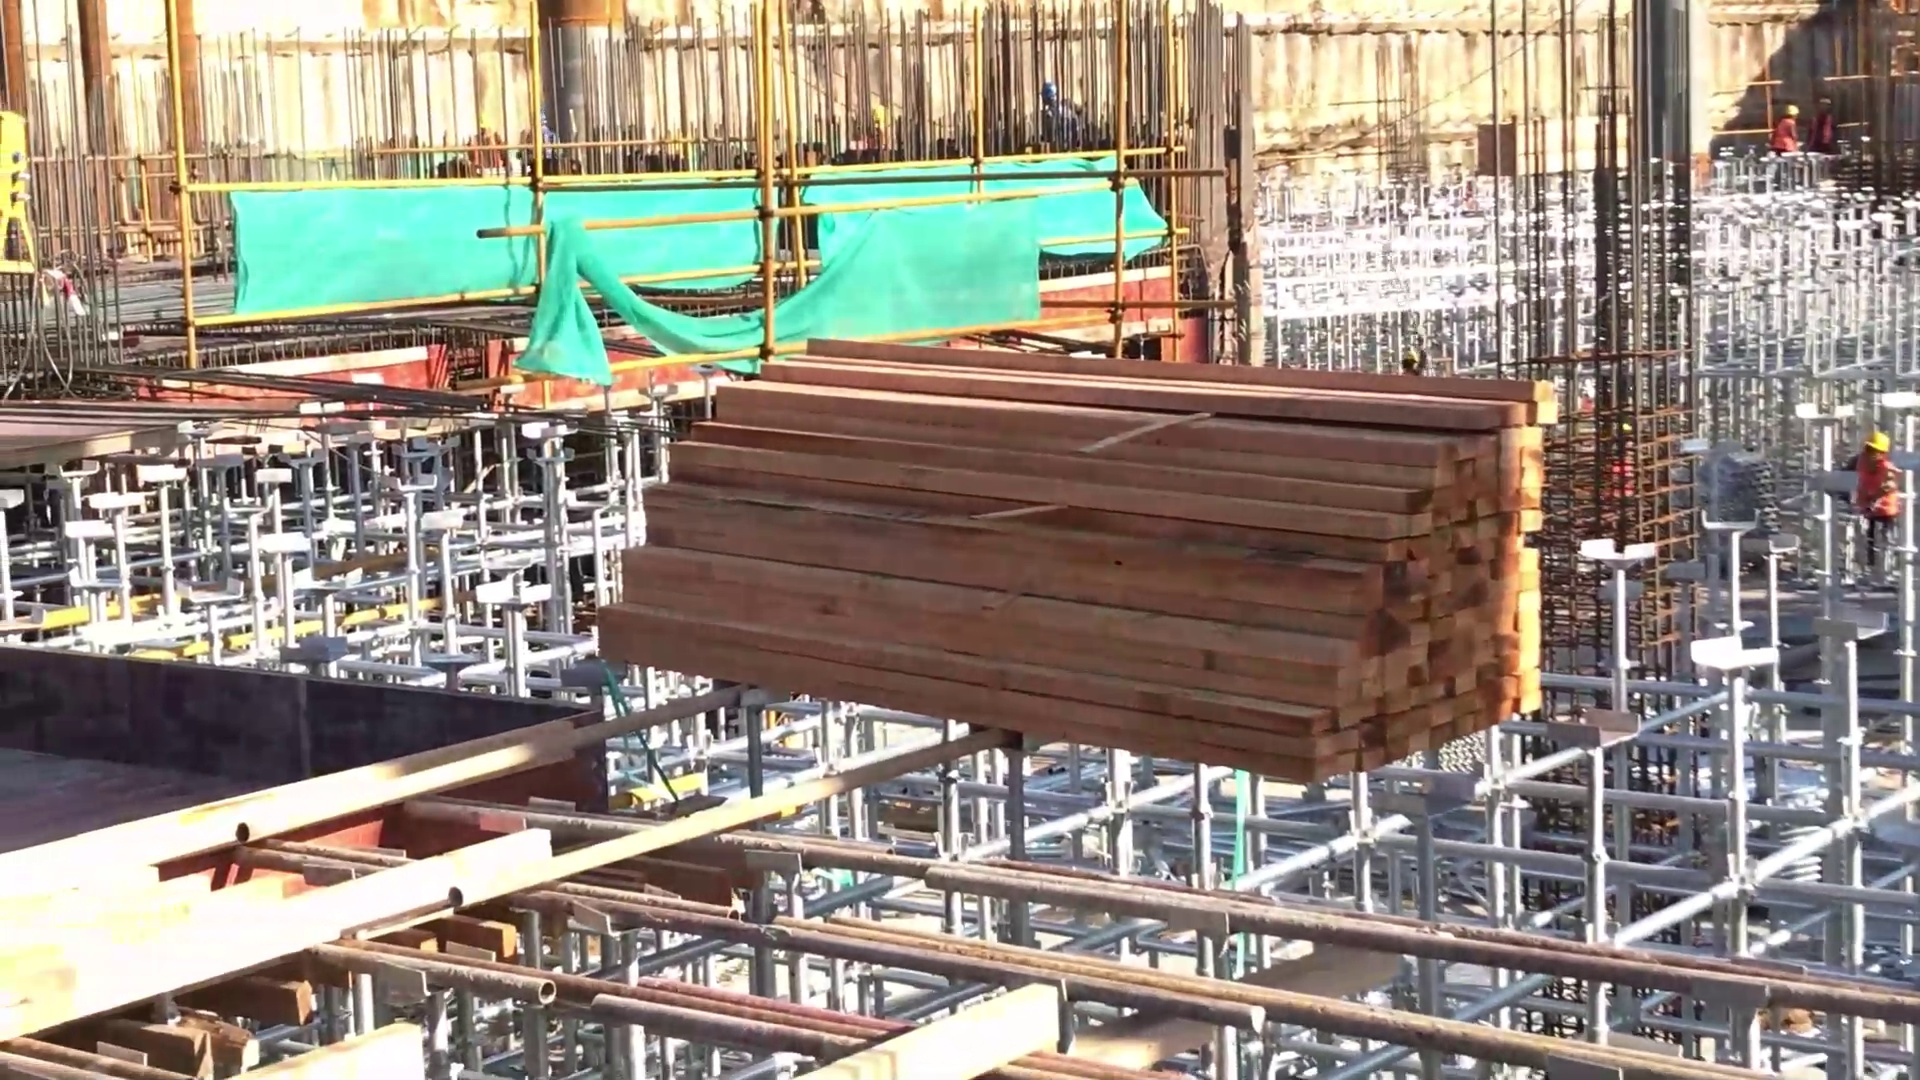helmet: (1782, 96, 1800, 115)
vest: (1847, 442, 1902, 520), (1768, 117, 1797, 156)
wood: (562, 305, 1552, 766)
